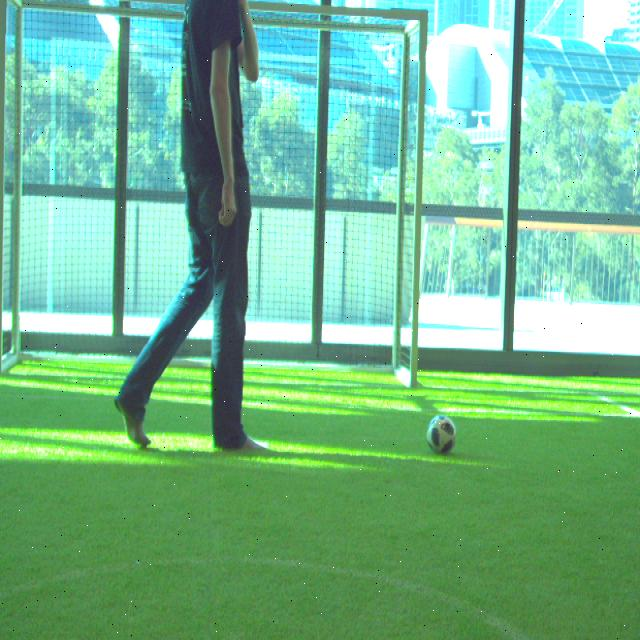ball: (424, 414, 455, 454)
goalpost: (409, 11, 427, 390), (0, 0, 6, 375)
